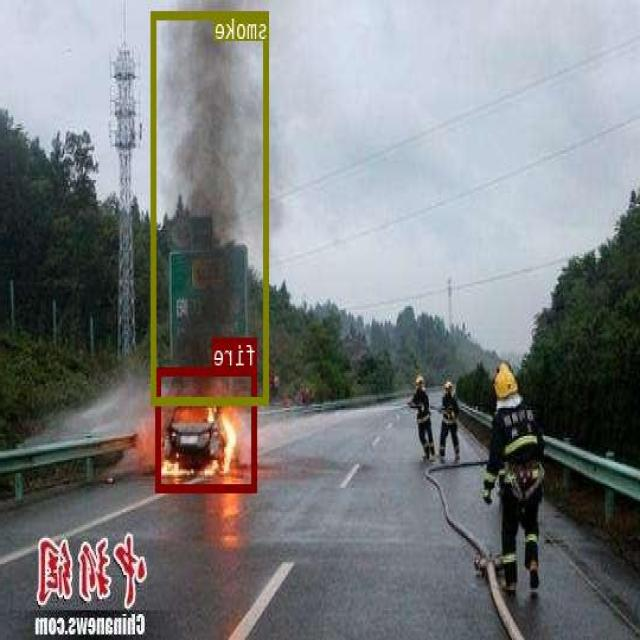fire: (157, 366, 257, 491)
smoke: (153, 10, 270, 404)
